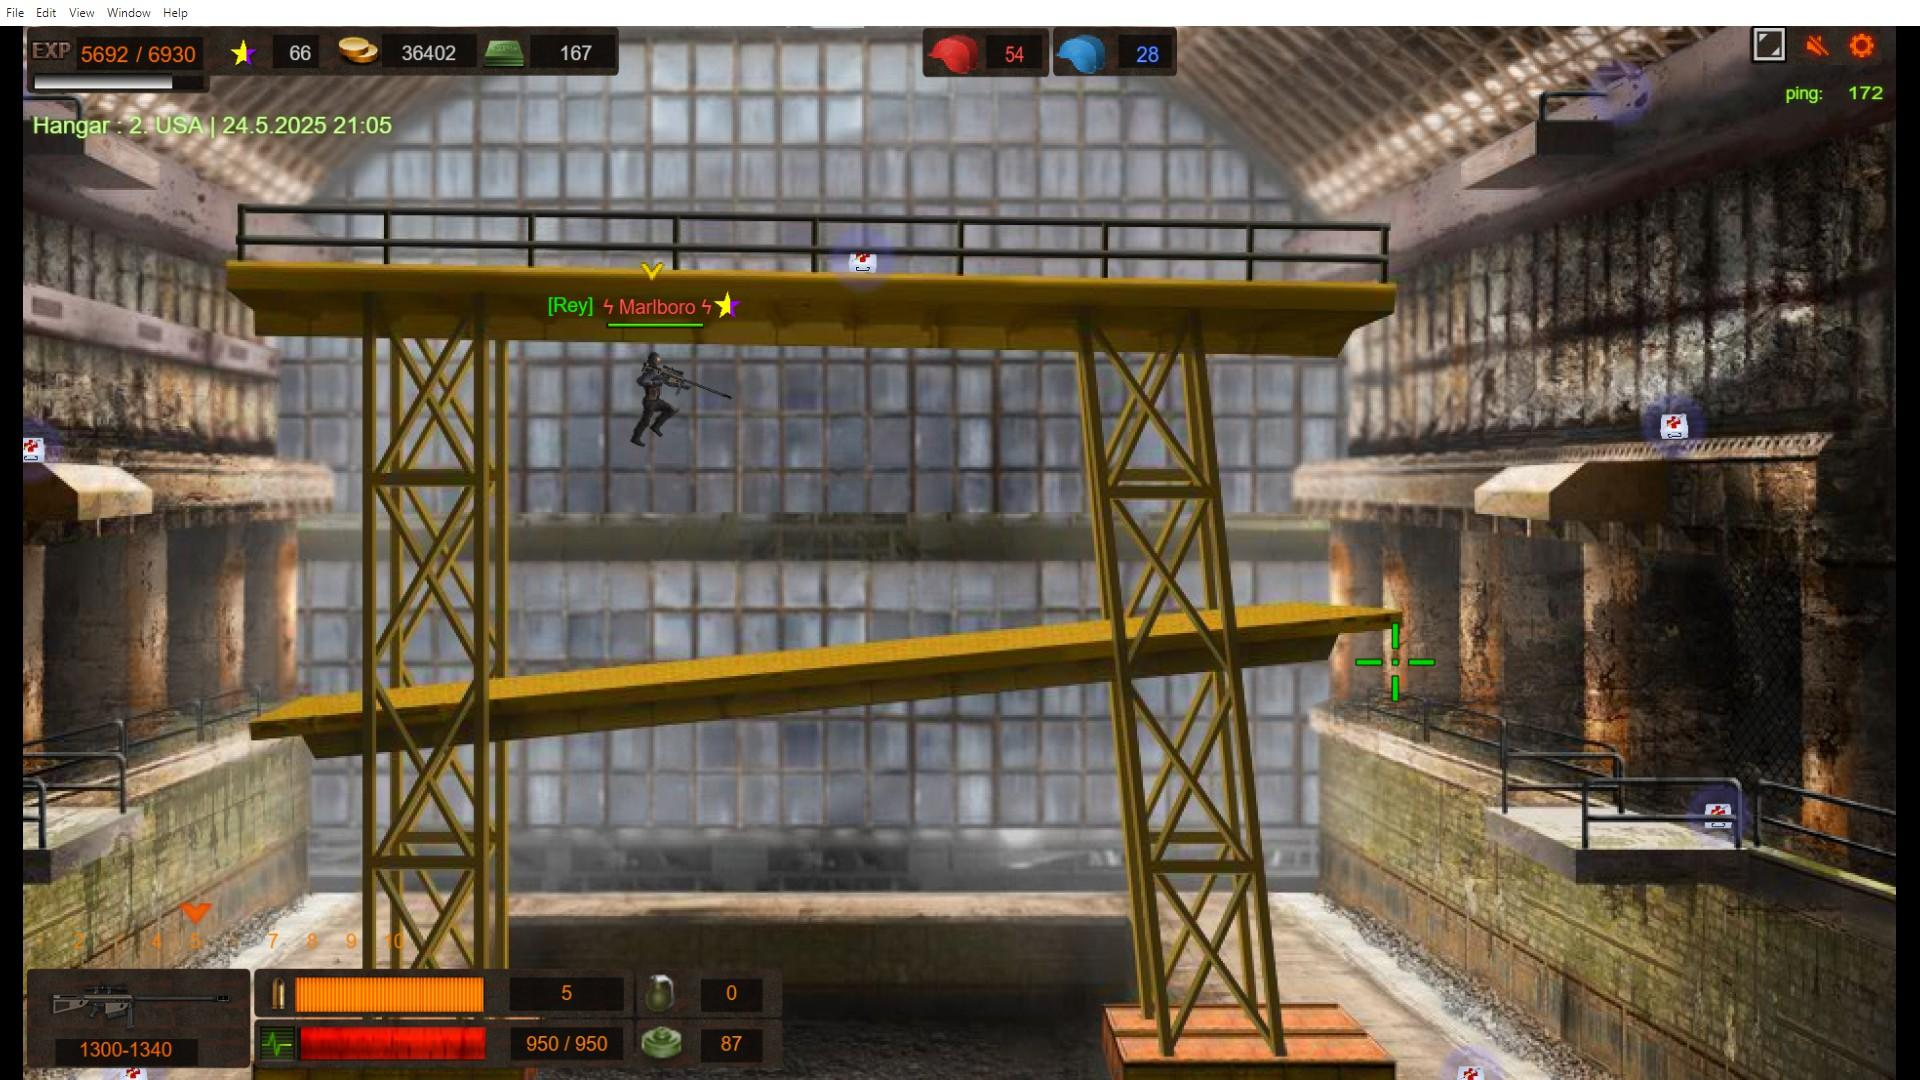enemy: (641, 355, 662, 446)
